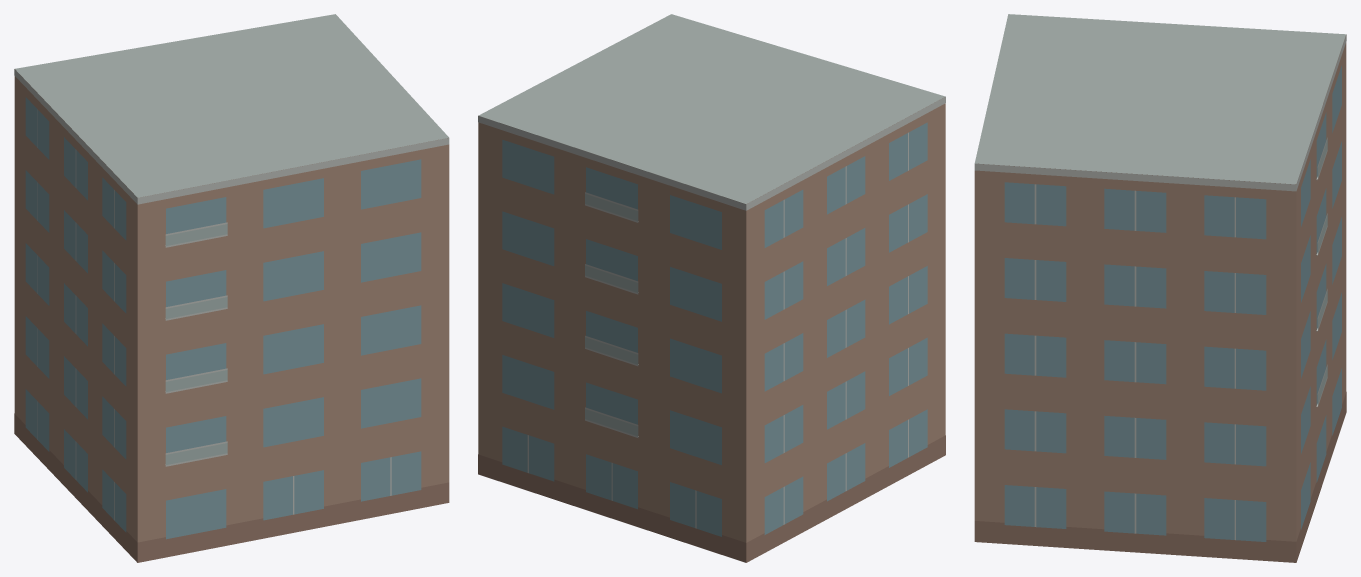
The model's file is survey-upis-32835251.glb.
The picture shows the model from 3 angles, left to right: view 1: azimuth 30°, elevation 25°; view 2: azimuth 150°, elevation 25°; view 3: azimuth 270°, elevation 25°; orthographic projection. The views are drawn at different scales.
Parts seen in each view (by area): view 1: survey-upis-32835251.tmp; view 2: survey-upis-32835251.tmp; view 3: survey-upis-32835251.tmp.
Part boxes in pixels (box(x1,y1,x2,y2)): survey-upis-32835251.tmp: box(14, 14, 449, 562); survey-upis-32835251.tmp: box(478, 14, 945, 562); survey-upis-32835251.tmp: box(974, 14, 1346, 562).
Bounding box in the file's own units: 12.76 × 13.2 × 11.76.
